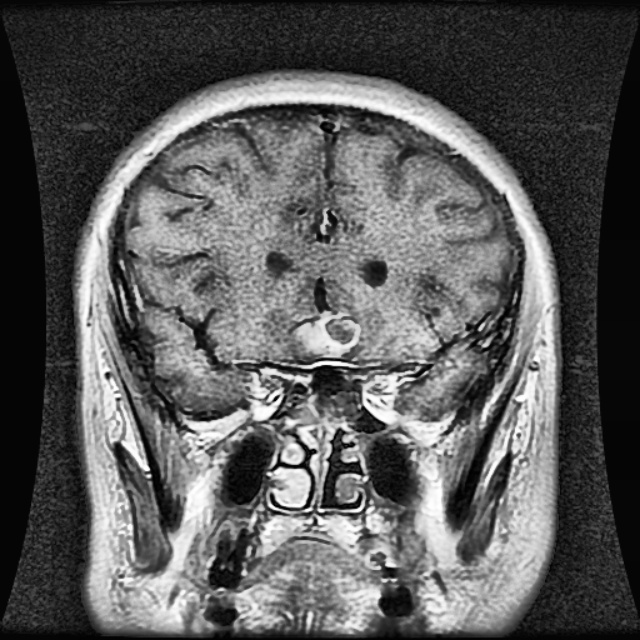Pituitary: (292, 313, 360, 357)
